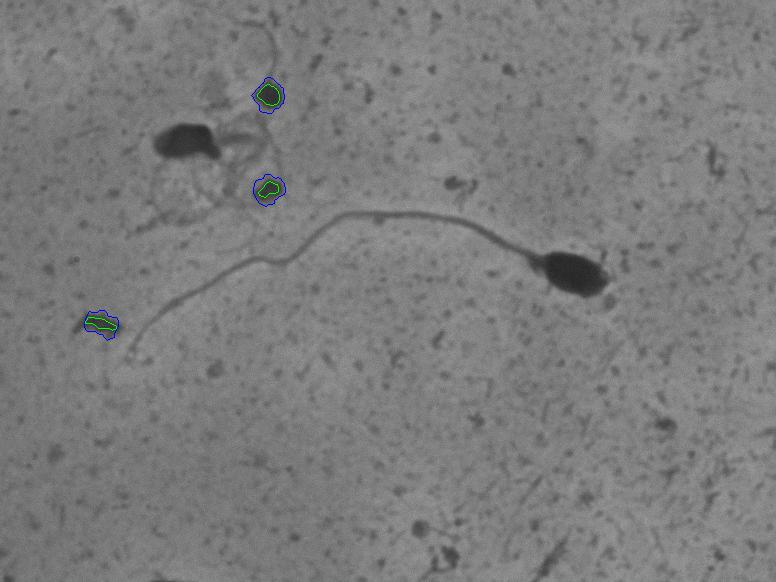Normal: (105, 201, 683, 395)
